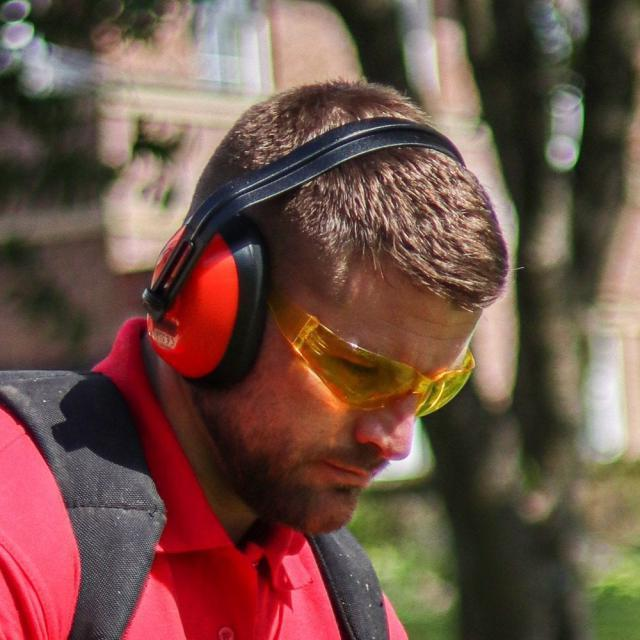goggles: (264, 293, 486, 416)
